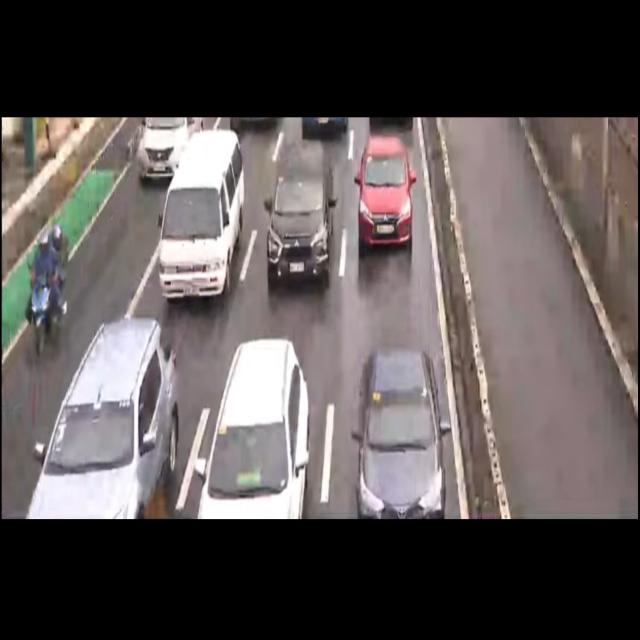Motorcycle: (27, 215, 72, 344)
SUV: (24, 319, 179, 520), (192, 332, 308, 518), (355, 351, 444, 525), (258, 144, 335, 290)
Sedan: (355, 136, 414, 254)
Van: (158, 130, 244, 307)
